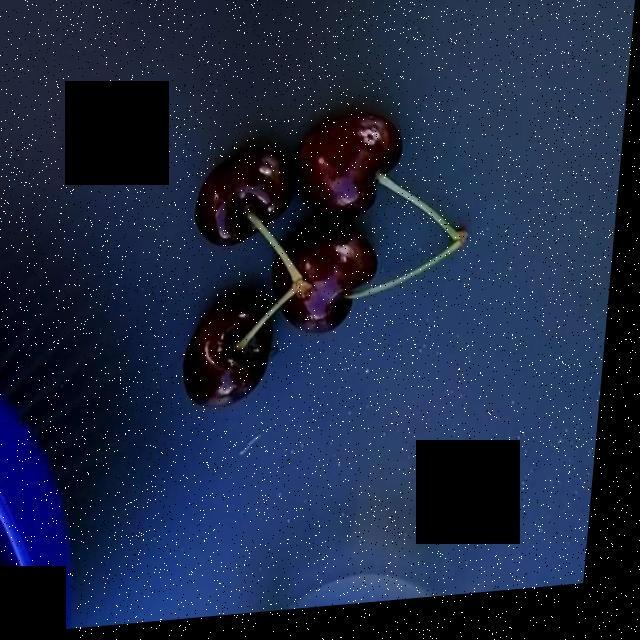cherries: (195, 125, 399, 406)
